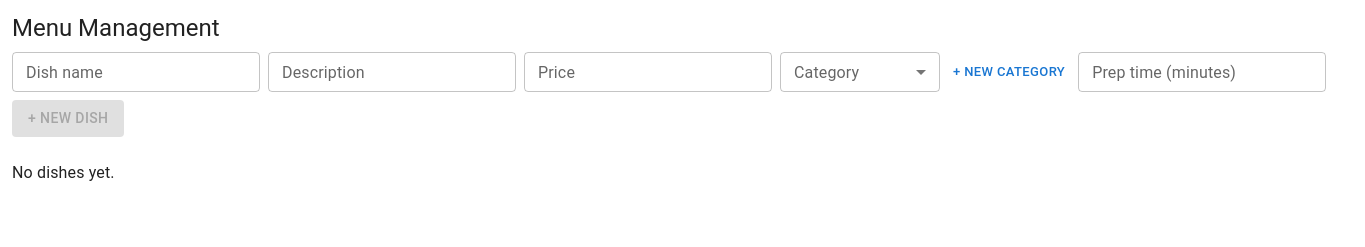
it: MenuManagementPage › creates a dish and clears the form
Expected: the text "No dishes yet." is shown, [12,163,115,182]
Type "Calzone" into the field labelled "Dish name" at coordinates (136, 72), box [12,52,260,92]
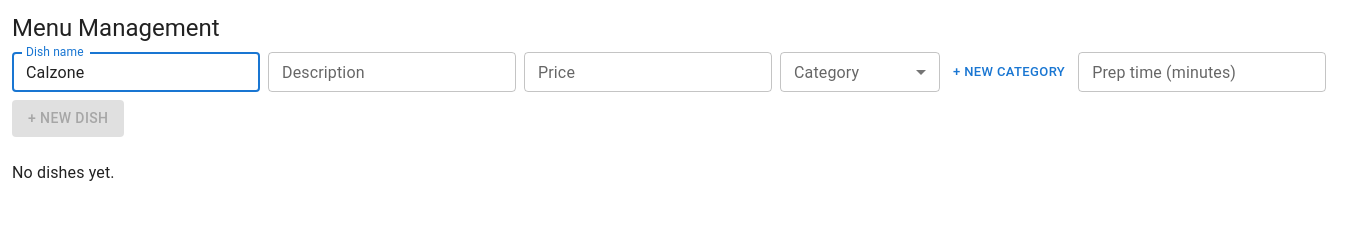
Type "9.50" into the field labelled "Price" at coordinates (648, 72), box [524,52,772,92]
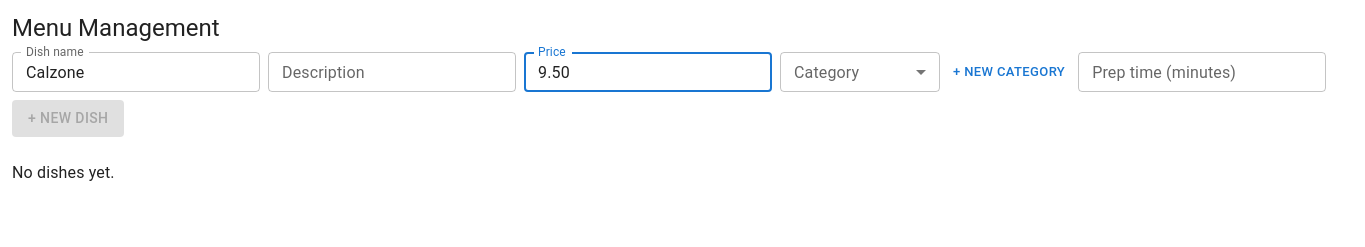
Click the dropdown named "Category" at coordinates (860, 72), box [780,52,940,92]
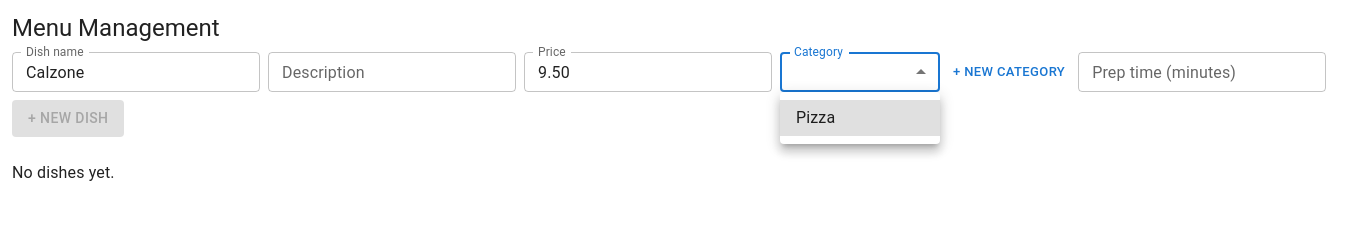
Click the option "Pizza" at coordinates (860, 118), box [780,100,940,136]
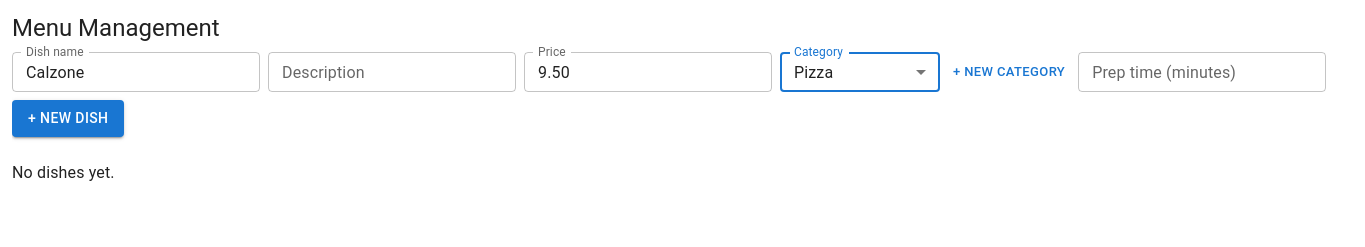
Click the button "+ New dish" at coordinates (68, 119), box [12,100,124,137]
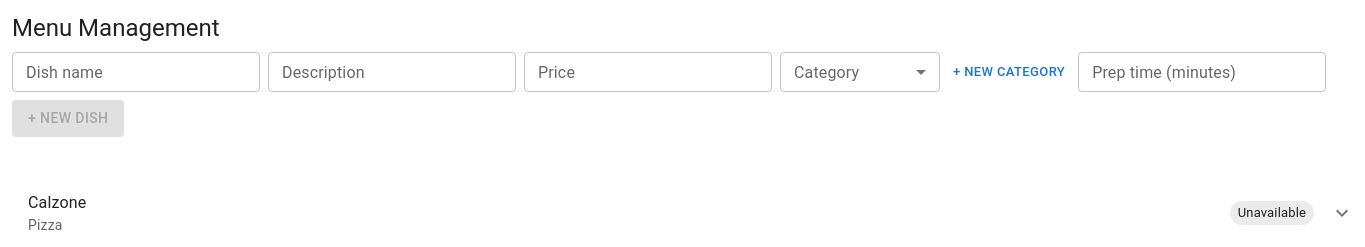
Expected: the text "Calzone" is shown, [28,193,86,212]
Expected: the field labelled "Dish name" is empty, [12,52,260,92]
Expected: the field labelled "Price" is empty, [524,52,772,92]
